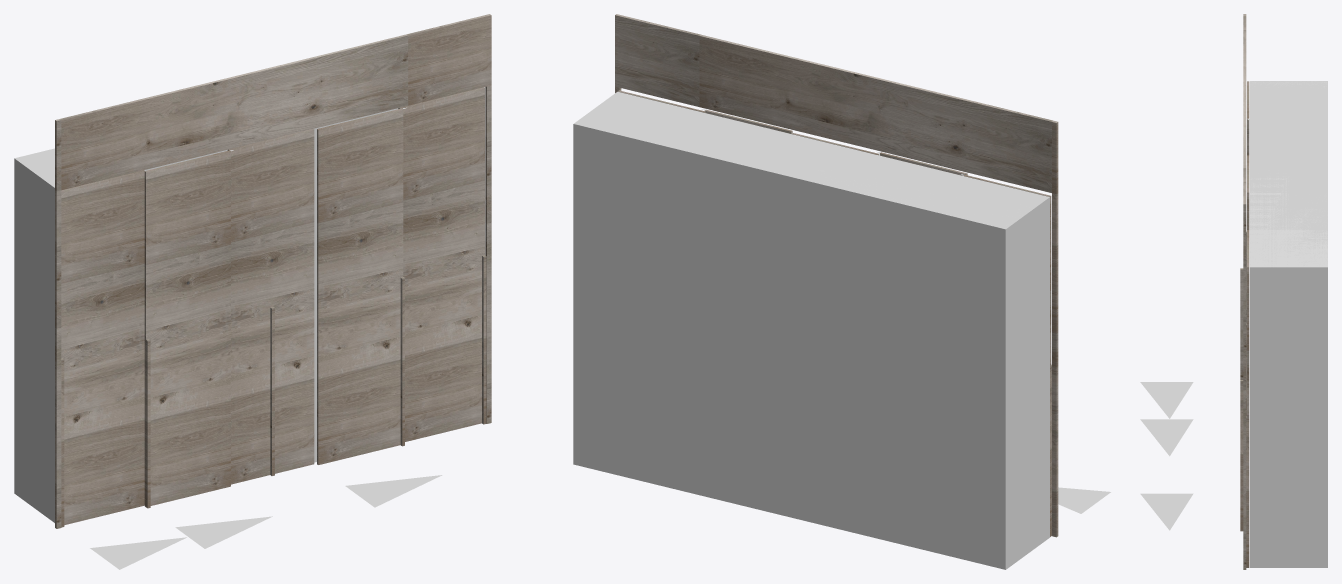
File: schrank.glb
3 views of the same model, side by side, from view 1: azimuth 30°, elevation 25°; view 2: azimuth 150°, elevation 25°; view 3: azimuth 270°, elevation 25° (orthographic). The views are drawn at different scales.
Visible parts, largest first — view 1: Geom3D_Türblatt (×5), Geom3D_ (×8), Geom3D (×5); view 2: Geom3D_ (×9), Geom3D_Türblatt; view 3: Geom3D_ (×11), Geom3D (×2), Geom3D_Türblatt.
Part boxes in pixels (bbox=[...]): Geom3D_Türblatt (×5): bbox=[61, 87, 484, 525]; Geom3D_ (×8): bbox=[14, 14, 491, 569]; Geom3D (×5): bbox=[61, 255, 486, 527]; Geom3D_ (×9): bbox=[573, 14, 1110, 569]; Geom3D_Türblatt: bbox=[963, 175, 1051, 536]; Geom3D_ (×11): bbox=[1140, 14, 1327, 569]; Geom3D (×2): bbox=[1240, 268, 1243, 531]; Geom3D_Türblatt: bbox=[1247, 230, 1249, 567].
Size of the model in its own units: 3.76 by 3.37 by 1.57.
2 materials, 1 textured.
